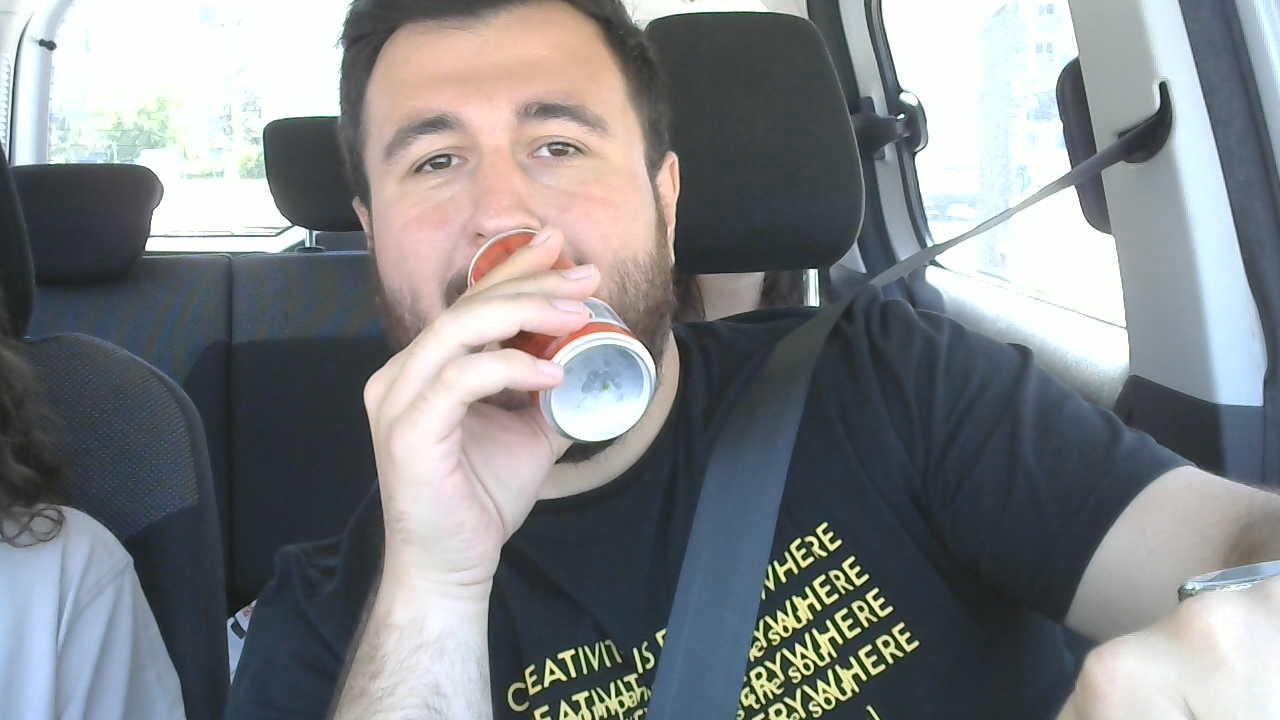Drinking: (351, 9, 677, 444)
